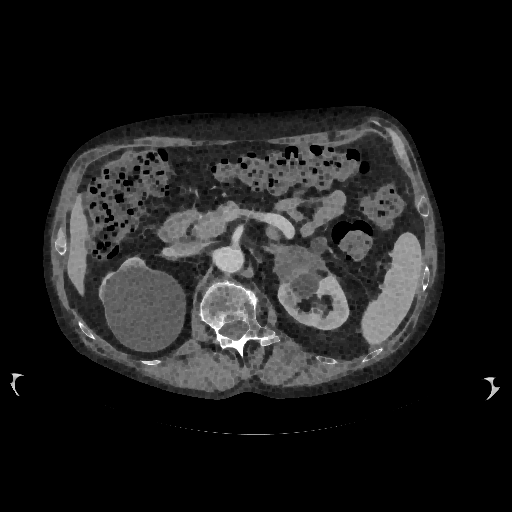Lesion: (268, 242, 325, 281)
